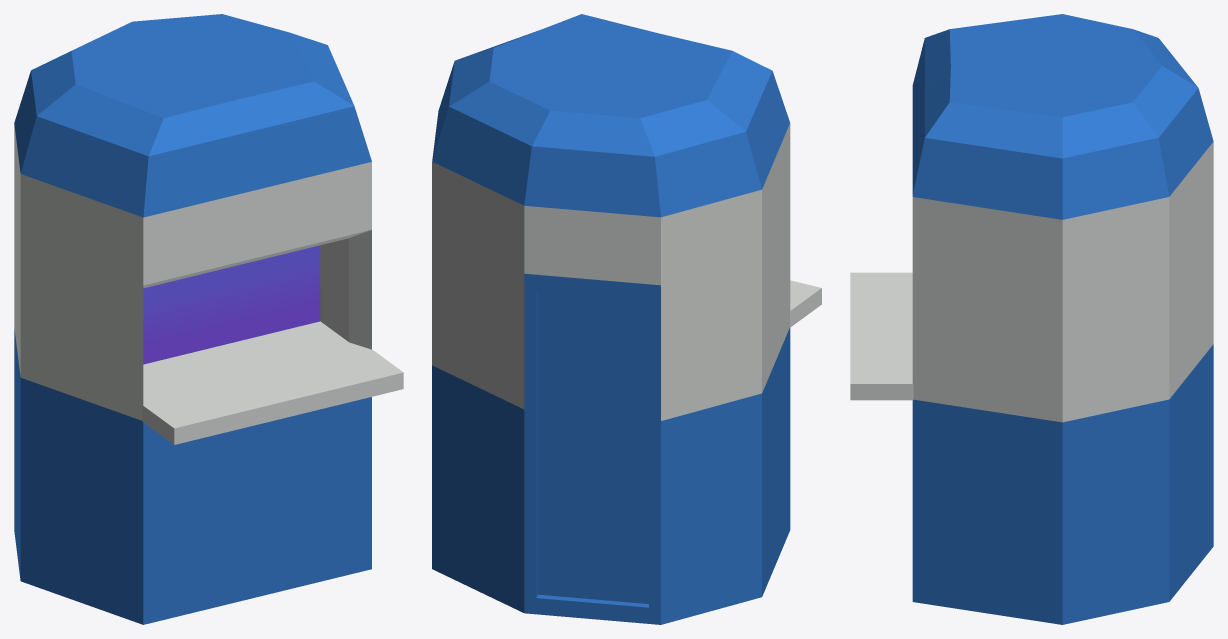
File: Ticket_Box_B.fbx
The picture shows the model from 3 angles, left to right: view 1: azimuth 30°, elevation 25°; view 2: azimuth 150°, elevation 25°; view 3: azimuth 270°, elevation 25°; orthographic projection.
Parts seen in each view (by area): view 1: Ticket_Box_B; view 2: Ticket_Box_B; view 3: Ticket_Box_B.
Boxes of the visible parts, x1,y1,x2,y2 form: Ticket_Box_B: (14, 14, 403, 624); Ticket_Box_B: (432, 14, 821, 624); Ticket_Box_B: (850, 14, 1213, 624).
Size of the model in its own units: 140 by 200 by 137.
